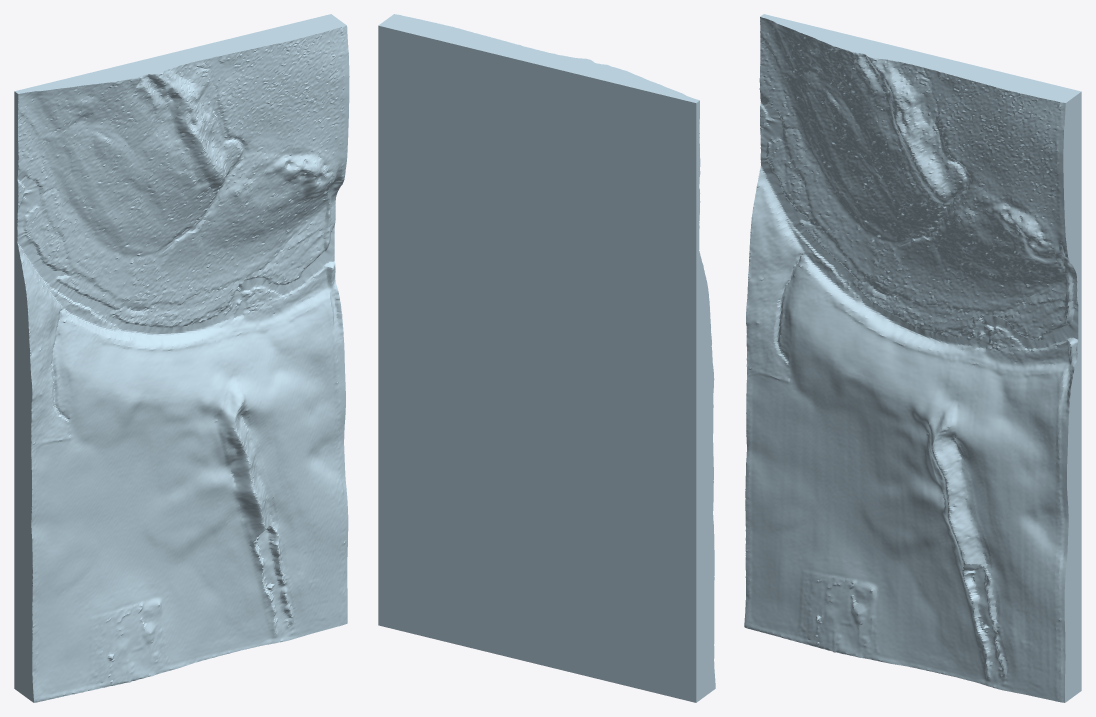
File: farm_elevation_final.gltf
3 views of the same model, side by side, from view 1: azimuth 30°, elevation 25°; view 2: azimuth 150°, elevation 25°; view 3: azimuth 330°, elevation 25° (orthographic).
Parts seen in each view (by area): view 1: Part 1; view 2: Part 1; view 3: Part 1.
Part boxes in pixels (left/top/right/bottom): Part 1: left=14, top=14, right=349, bottom=702; Part 1: left=378, top=14, right=715, bottom=702; Part 1: left=744, top=14, right=1081, bottom=702.
Bounding box in the file's own units: 0.8455 × 1.52 × 0.127.
